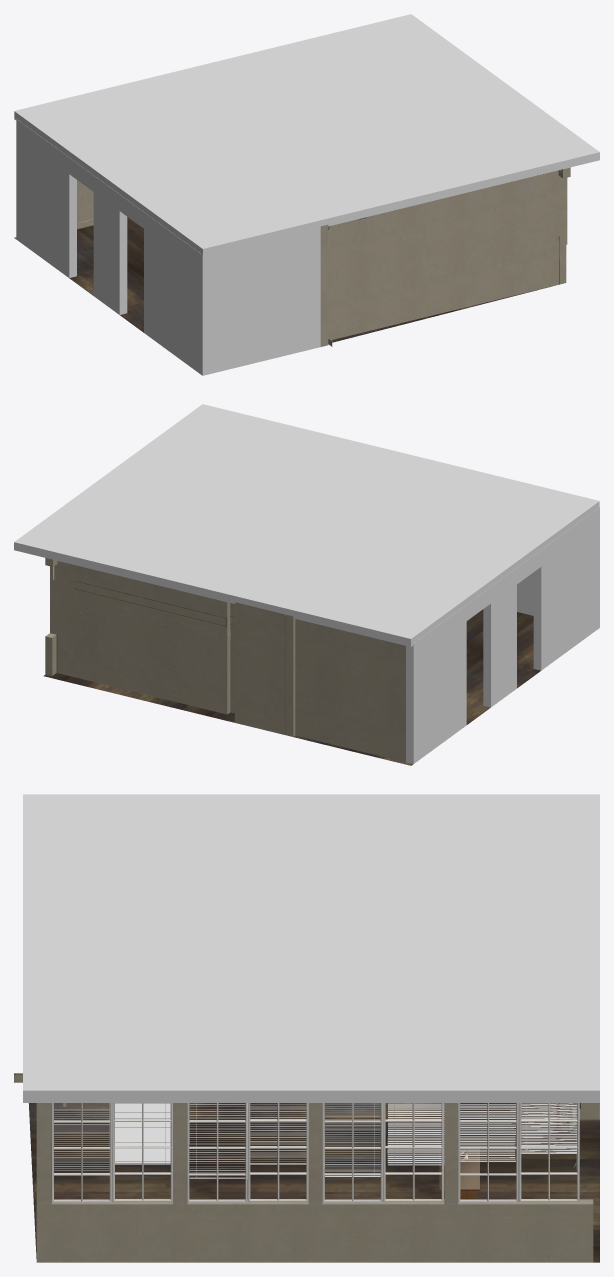
File: classroom.glb
3 renders of one model, top to bottom at view 1: azimuth 30°, elevation 25°; view 2: azimuth 150°, elevation 25°; view 3: azimuth 270°, elevation 25°, orthographic. The views are drawn at different scales.
Visible parts, largest first — view 1: ceiling__ceiling, wall.010__wall.010, wall.009__wall.009, wall.005__wall.005, sol__sol, wall__wall, wall.004__wall.004, wall.006__wall.006; view 2: ceiling__ceiling, wall.008__wall.008, wall.009__wall.009, wall.006__wall.006, sol__sol, wall__wall, wall.005__wall.005, wall.007__wall.007; view 3: ceiling__ceiling, sol__sol, wall.007__wall.007, Cube.017__Cube.017, Cube.005__Cube.005, Cube.008__Cube.008, Cube.002__Cube.002, Cube.021__Cube.021, Cube.020__Cube.020, Cube.011__Cube.011, Cube.014__Cube.014, wall.004__wall.004 (+12 smaller).
Part boxes in pixels (x1=…): ceiling__ceiling: x1=14, y1=14, x2=599, y2=254; wall.010__wall.010: x1=328, y1=170, x2=566, y2=340; wall.009__wall.009: x1=16, y1=119, x2=210, y2=375; wall.005__wall.005: x1=210, y1=226, x2=320, y2=373; sol__sol: x1=14, y1=217, x2=551, y2=342; wall__wall: x1=320, y1=224, x2=328, y2=346; wall.004__wall.004: x1=559, y1=176, x2=567, y2=246; wall.006__wall.006: x1=77, y1=180, x2=93, y2=222; ceiling__ceiling: x1=14, y1=404, x2=599, y2=646; wall.008__wall.008: x1=50, y1=561, x2=285, y2=734; wall.009__wall.009: x1=406, y1=507, x2=599, y2=764; wall.006__wall.006: x1=295, y1=619, x2=405, y2=762; sol__sol: x1=43, y1=609, x2=540, y2=765; wall__wall: x1=285, y1=614, x2=295, y2=736; wall.005__wall.005: x1=517, y1=572, x2=533, y2=615; wall.007__wall.007: x1=45, y1=633, x2=56, y2=675; ceiling__ceiling: x1=23, y1=794, x2=599, y2=1102; sol__sol: x1=28, y1=1103, x2=599, y2=1262; wall.007__wall.007: x1=36, y1=1199, x2=593, y2=1262; Cube.017__Cube.017: x1=115, y1=1103, x2=170, y2=1162; Cube.005__Cube.005: x1=387, y1=1103, x2=444, y2=1163; Cube.008__Cube.008: x1=325, y1=1103, x2=380, y2=1173; Cube.002__Cube.002: x1=460, y1=1104, x2=515, y2=1159; Cube.021__Cube.021: x1=521, y1=1103, x2=576, y2=1152; Cube.020__Cube.020: x1=54, y1=1103, x2=109, y2=1170; Cube.011__Cube.011: x1=250, y1=1104, x2=306, y2=1161; Cube.014__Cube.014: x1=189, y1=1104, x2=245, y2=1172; wall.004__wall.004: x1=36, y1=1103, x2=51, y2=1204.
Bounding box in the file's own units: 10.17 × 3.11 × 8.5.
Materials: 65 (47 with a texture image).
